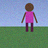person: (22, 3, 37, 32)
